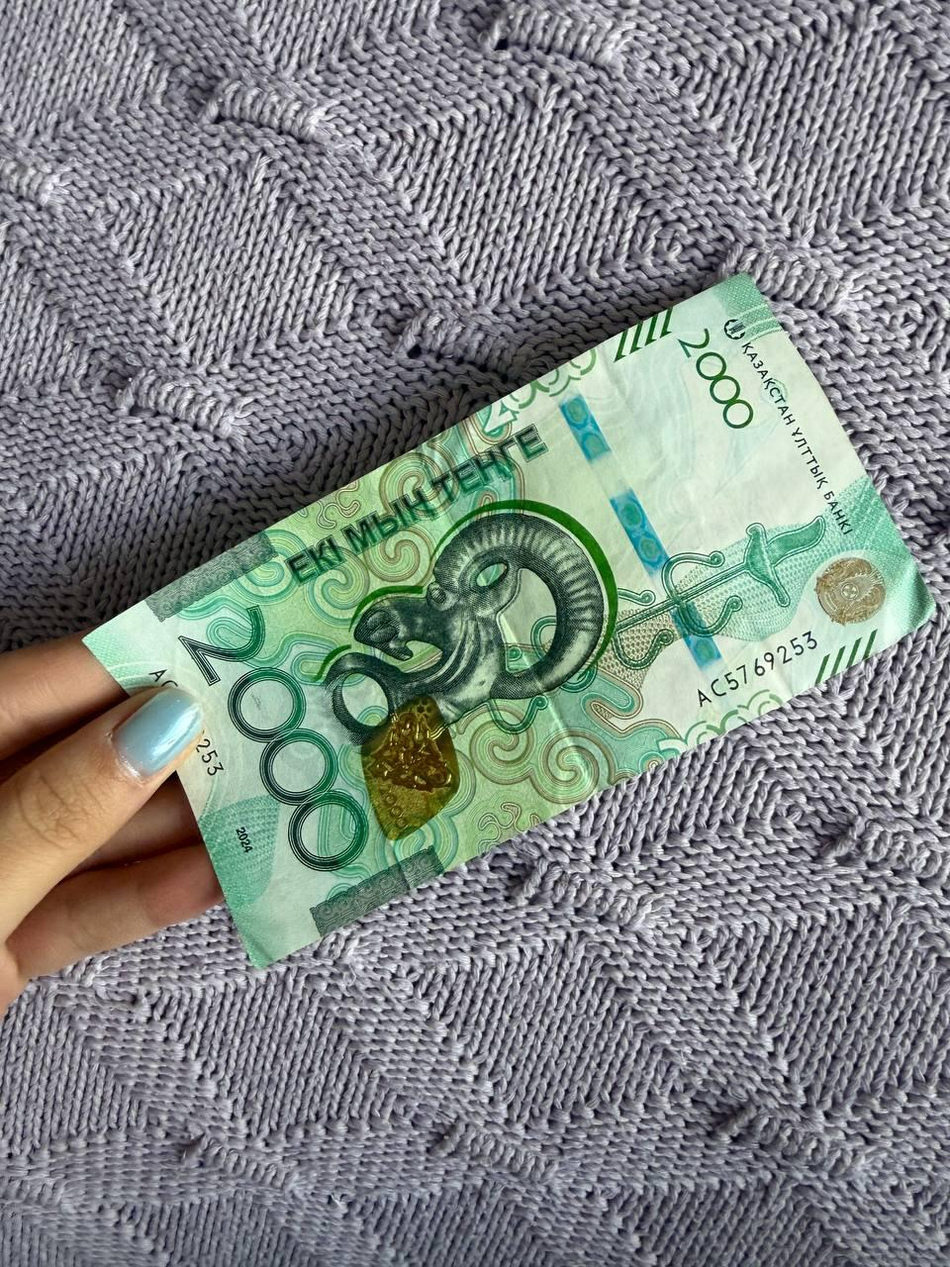cash_stack: (77, 269, 923, 958)
